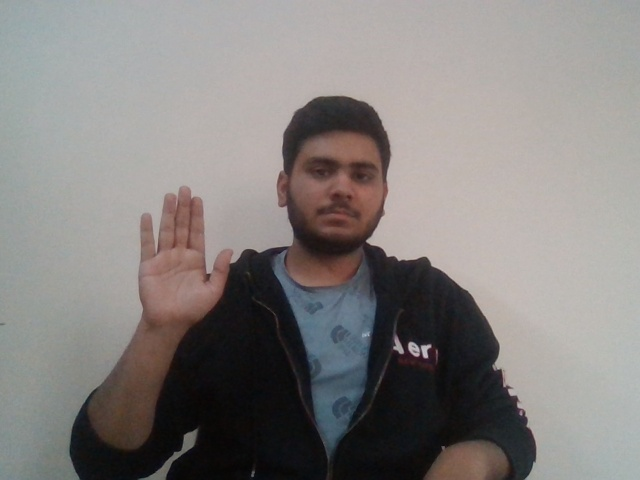Hello: (126, 183, 243, 317)
